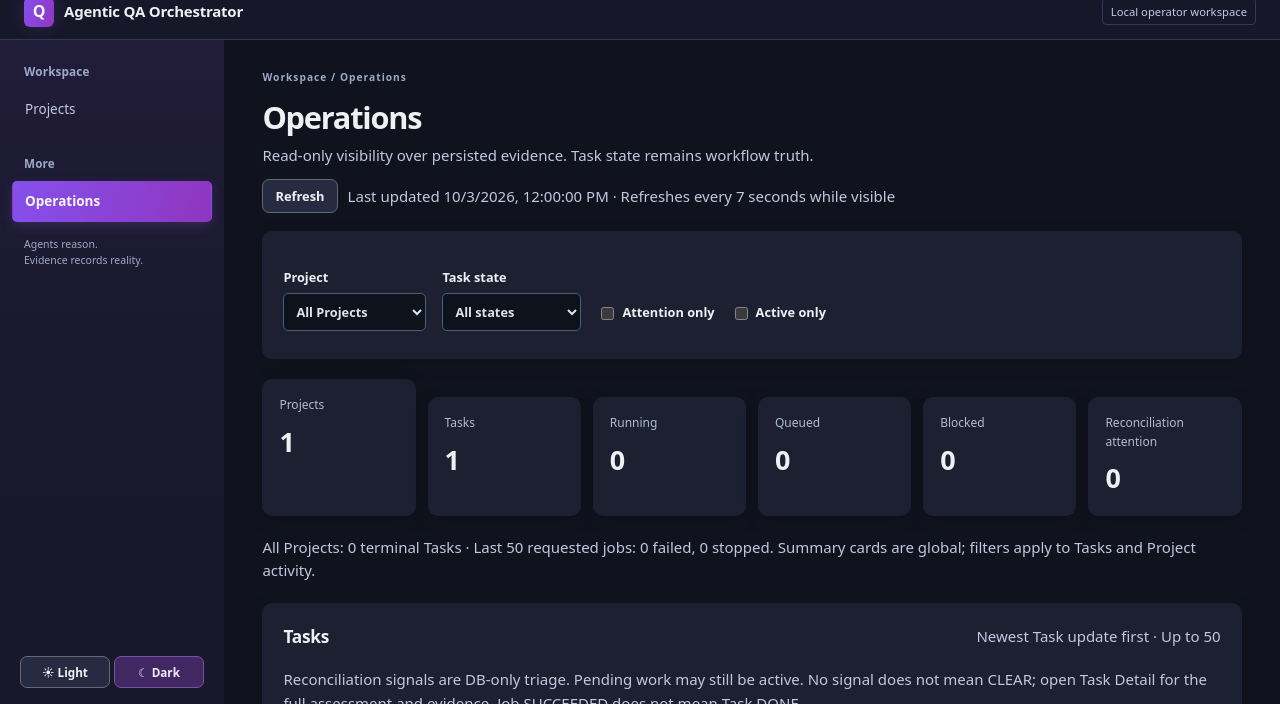
Test case: Operations dashboard › round-trips filters in URL and reads only selected Project readiness
The image size is (1280, 704).
Select "demo-calculator" in the dropdown labelled "Project" at (355, 312), box [283,293,426,331]
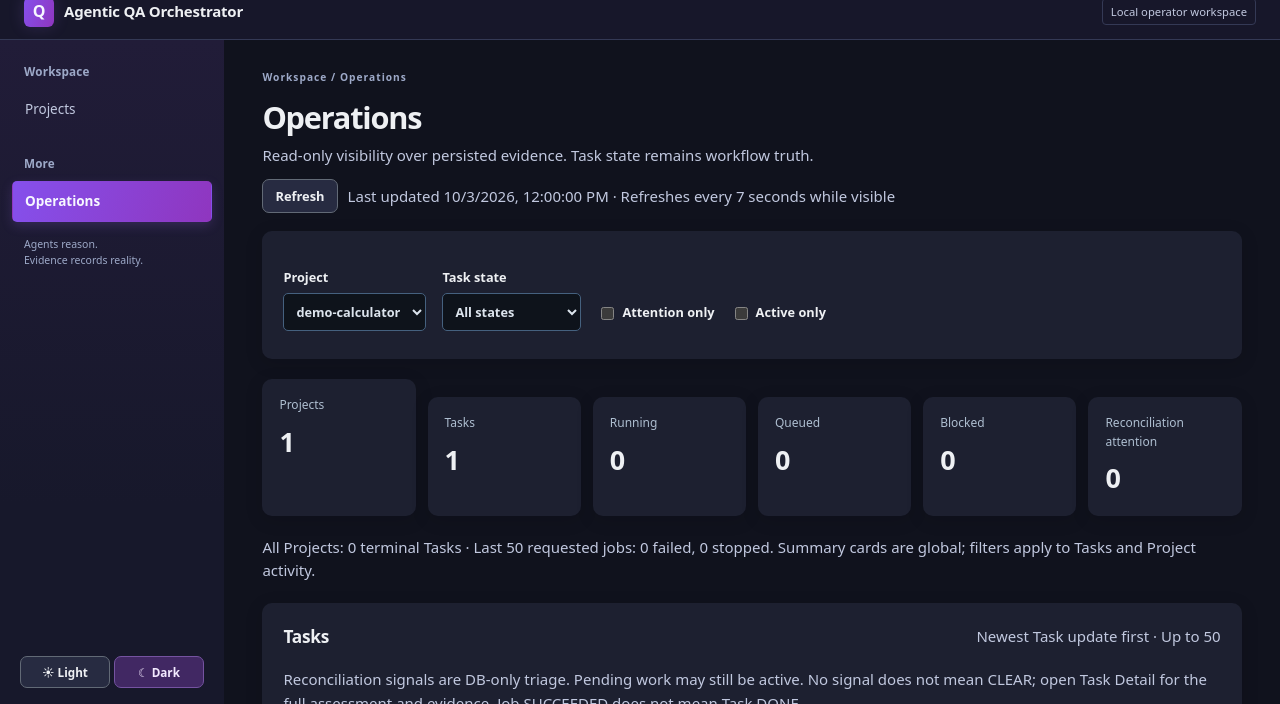
Select "BLOCKED" in the dropdown labelled "Task state" at (512, 312), box [442,293,581,331]
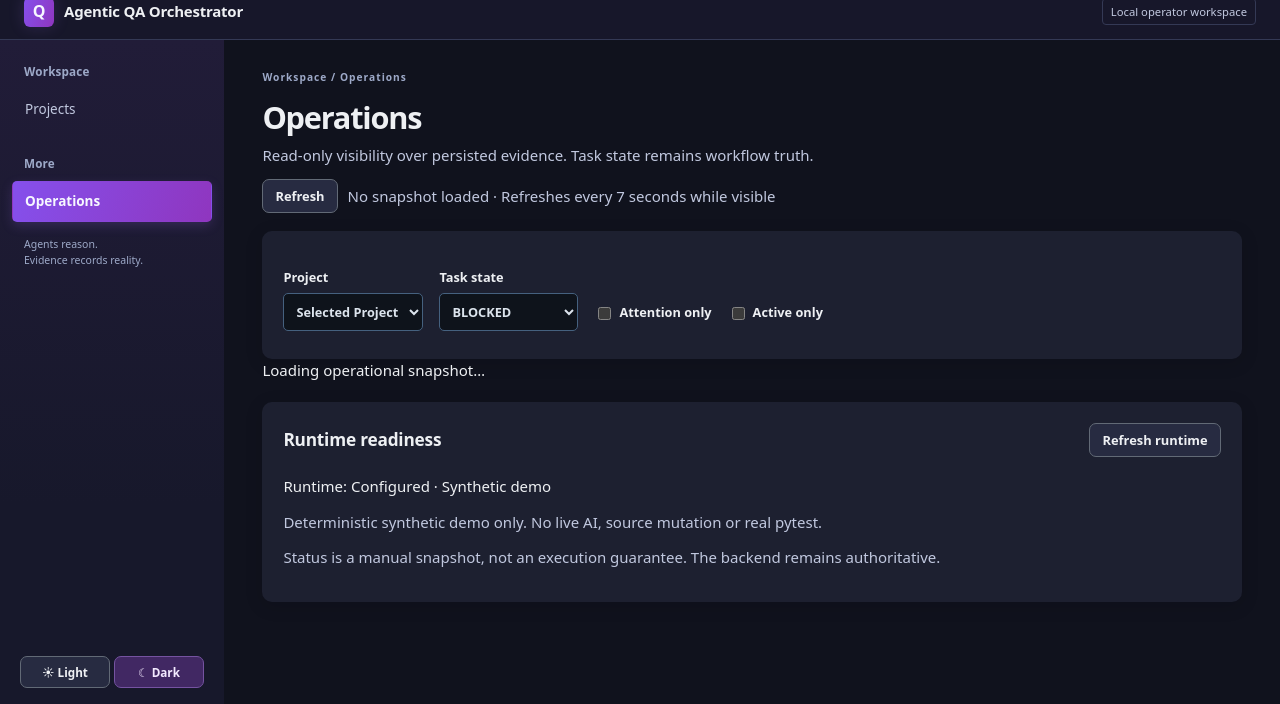
Click the checkbox labelled "Attention only".
click(605, 313)  # box [598,307,611,320]
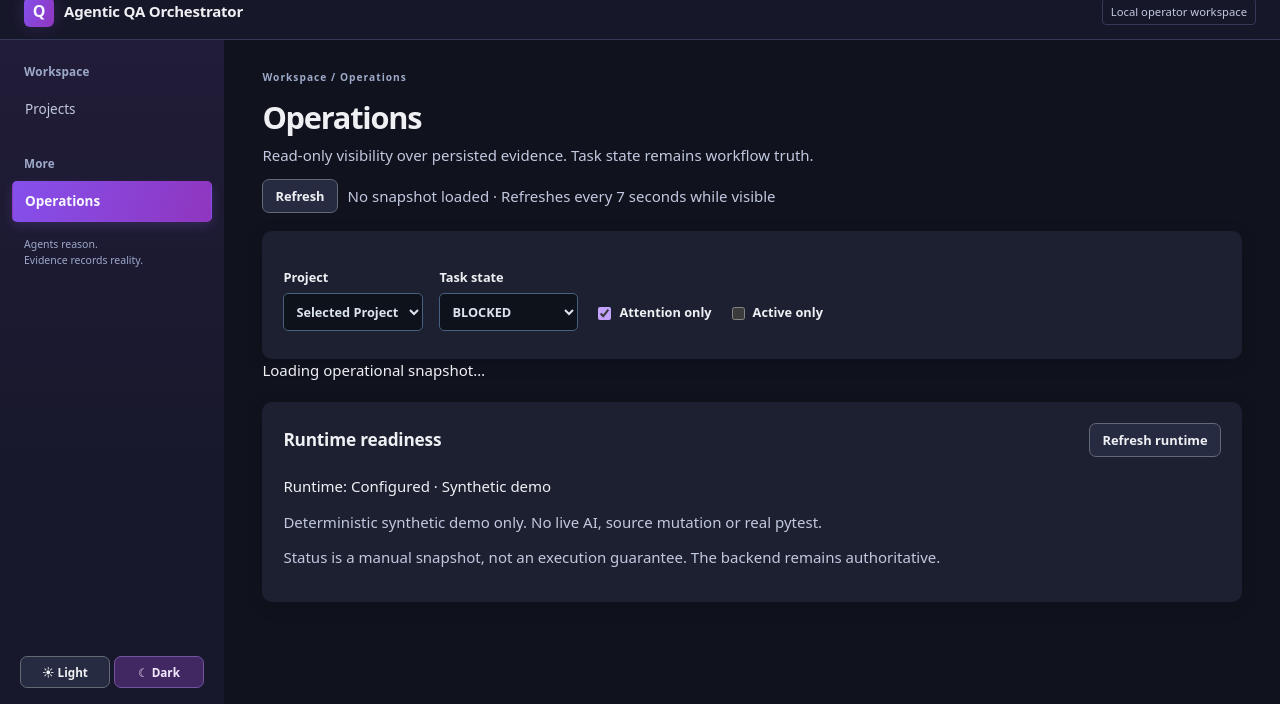
Click the checkbox labelled "Active only".
click(738, 313)  # box [732,307,745,320]
(page scrolled)
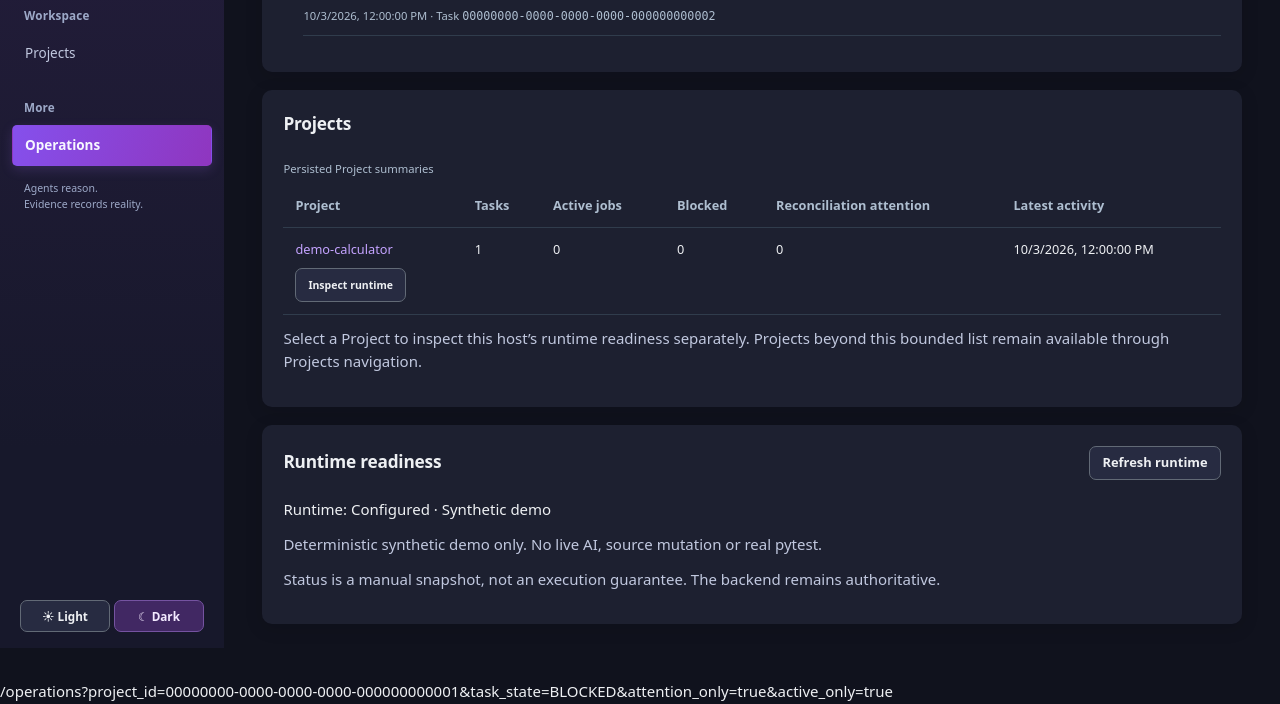
Now the text with test id "location" shows "active_only=true", box [82,681,893,701]
